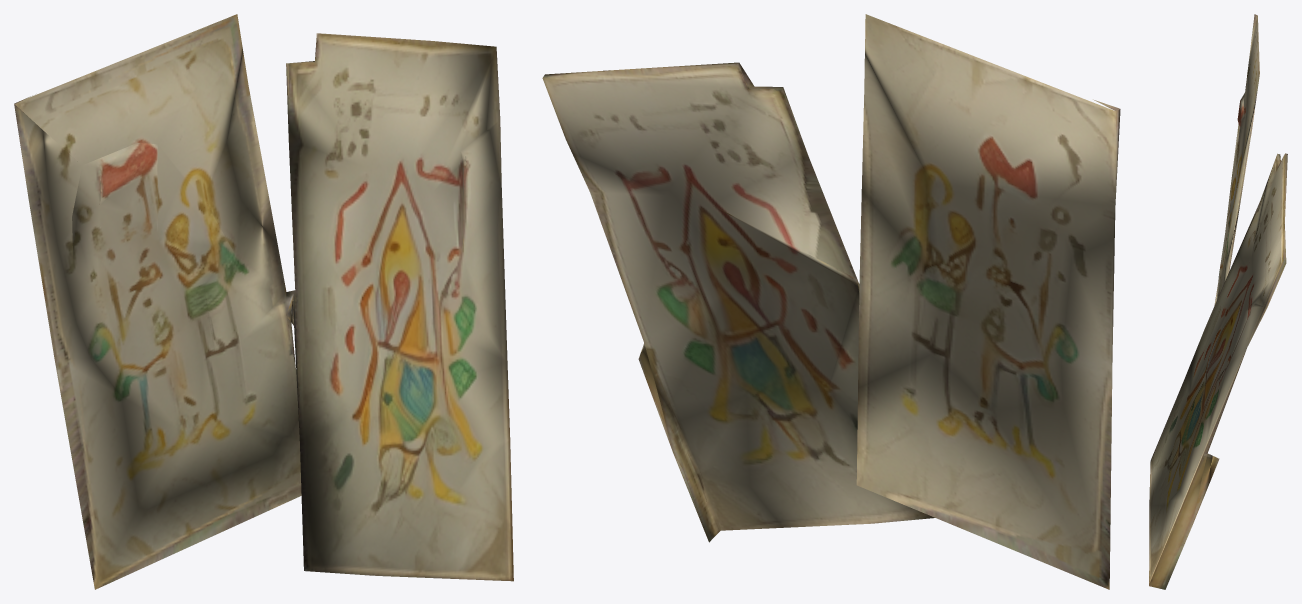
The model's file is children's drawing.fbx.
3 renders of one model, left to right at view 1: azimuth 30°, elevation 25°; view 2: azimuth 150°, elevation 25°; view 3: azimuth 270°, elevation 25°, orthographic. The views are drawn at different scales.
Visible parts, largest first — view 1: children's drawing; view 2: children's drawing; view 3: children's drawing.
Boxes of the visible parts, x1,y1,x2,y2 form: children's drawing: (14,14,513,589); children's drawing: (542,14,1120,589); children's drawing: (1149,14,1287,589).
Bounding box in the file's own units: 247 × 269 × 76.82.
Materials: 1 (1 with a texture image).
